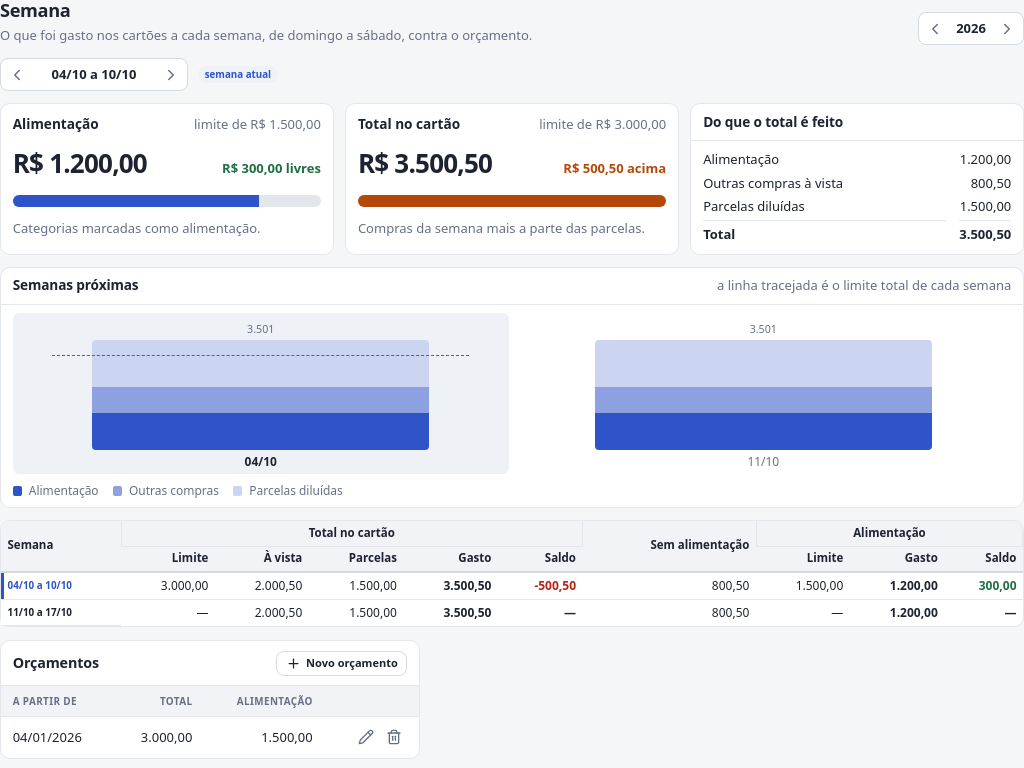
Scenario: WeeklyPlanPage › edits a budget and shows the server message when it is refused
This screenshot has width=1024, height=768.
Expected: the element named "Semanas" is shown, [0,520,1023,627]
Click the button named "Editar o orçamento de 04/01/2026" at (366, 737), box [353,724,380,751]
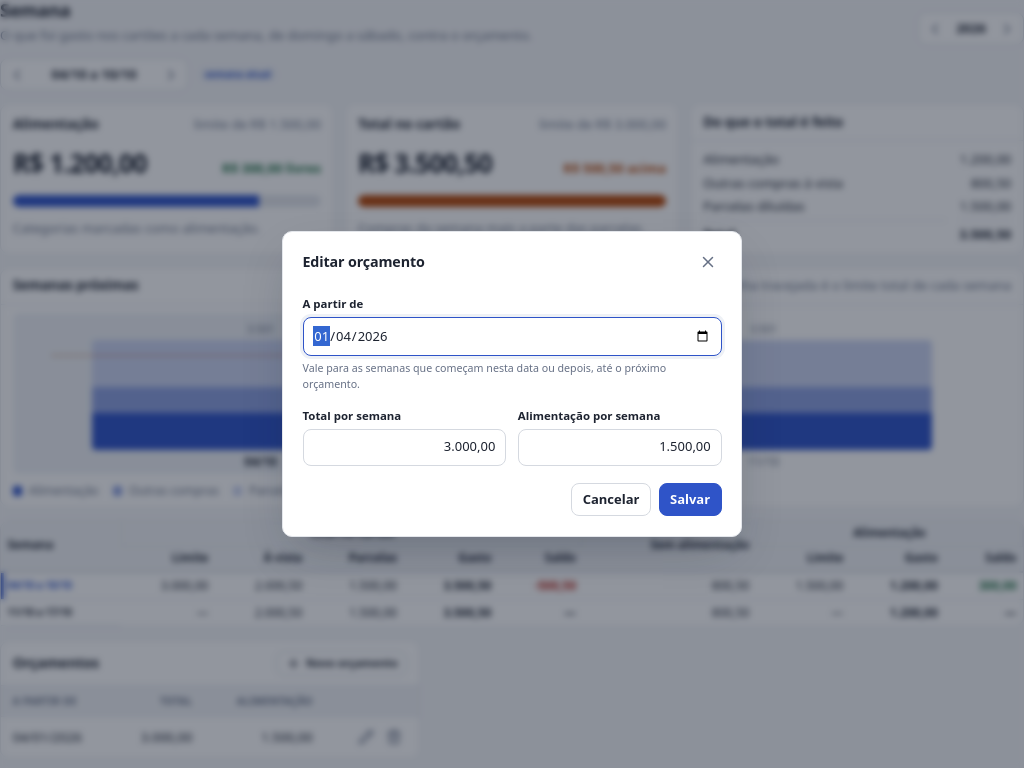
Expected: the field labelled "Total por semana" holds "3.000,00", [302,428,506,466]
Click the button "Salvar" at (690, 500), box [659,483,722,516]
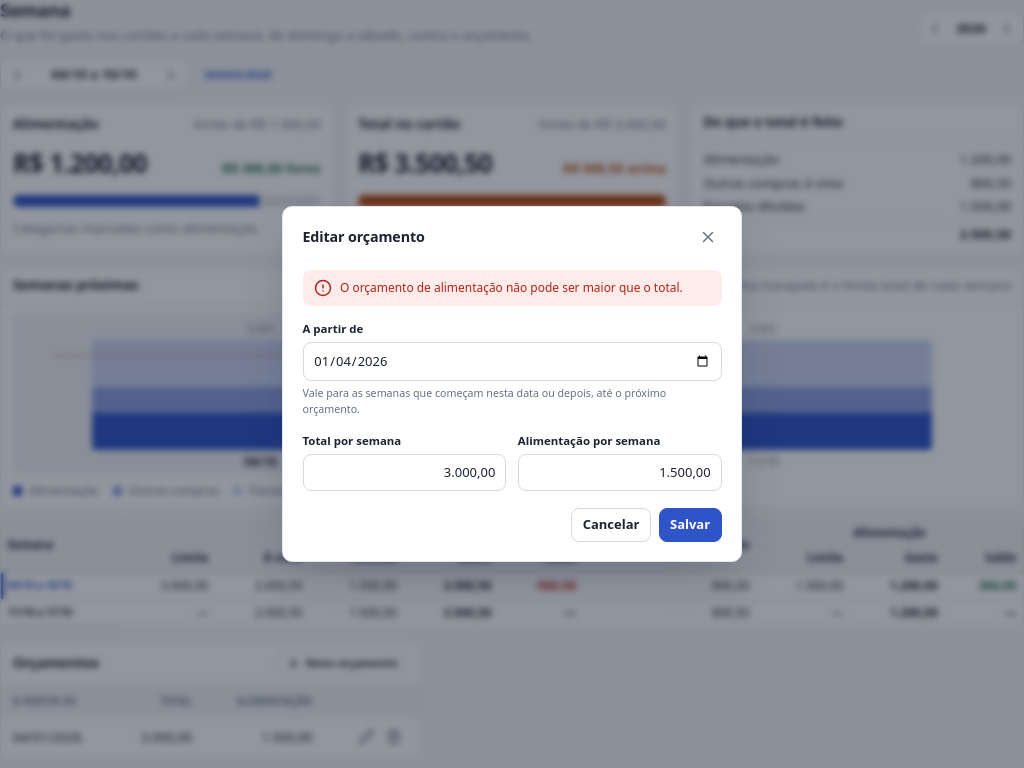
Expected: the message shows "não pode ser maior que o total", [340,279,683,296]
